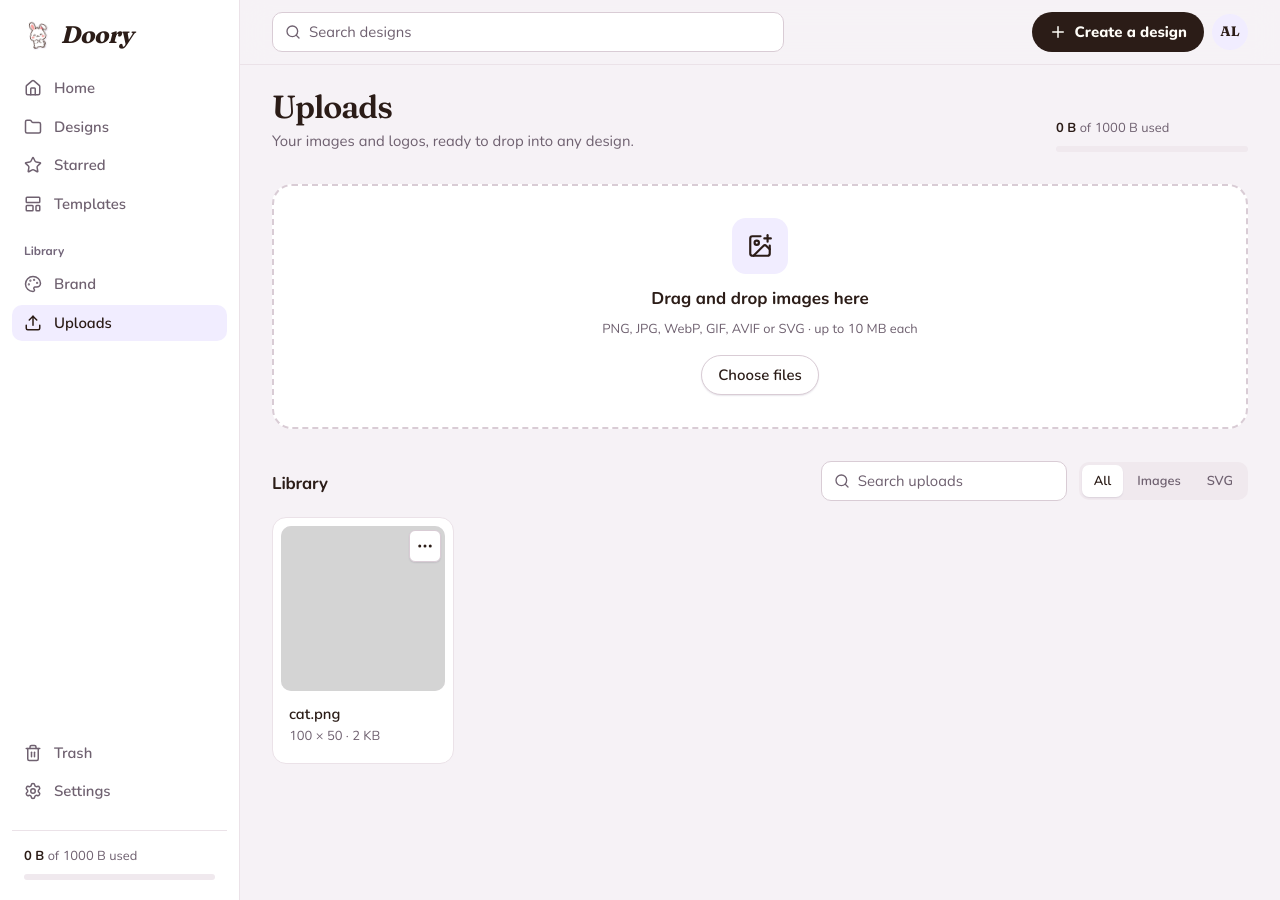
Test: uploads page › warns that designs lose a deleted image, then deletes it
Click the button named "More actions for cat.png" at point(425, 546), box [409, 530, 441, 562]
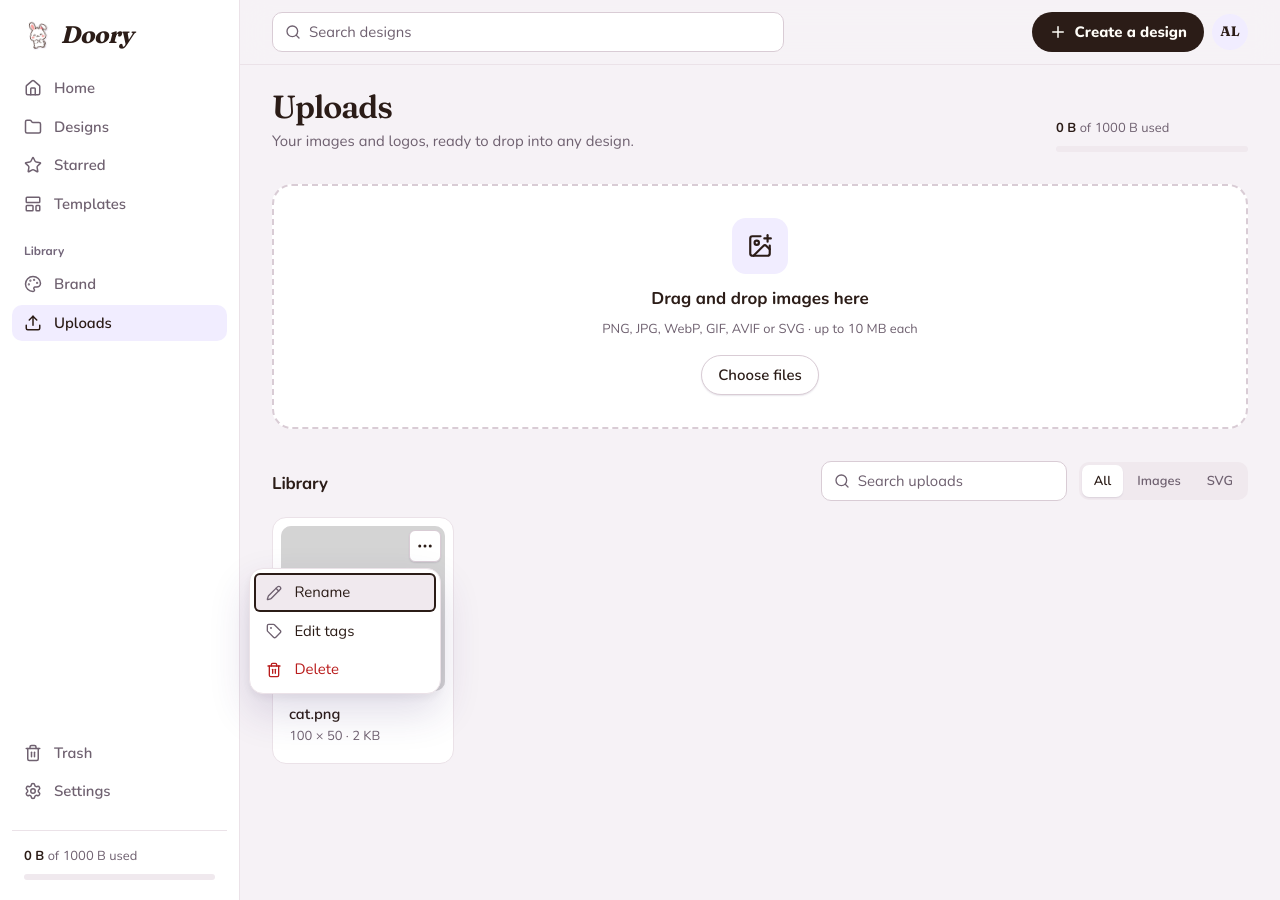
Click the menu item "Delete" at point(345, 670), box [254, 650, 436, 689]
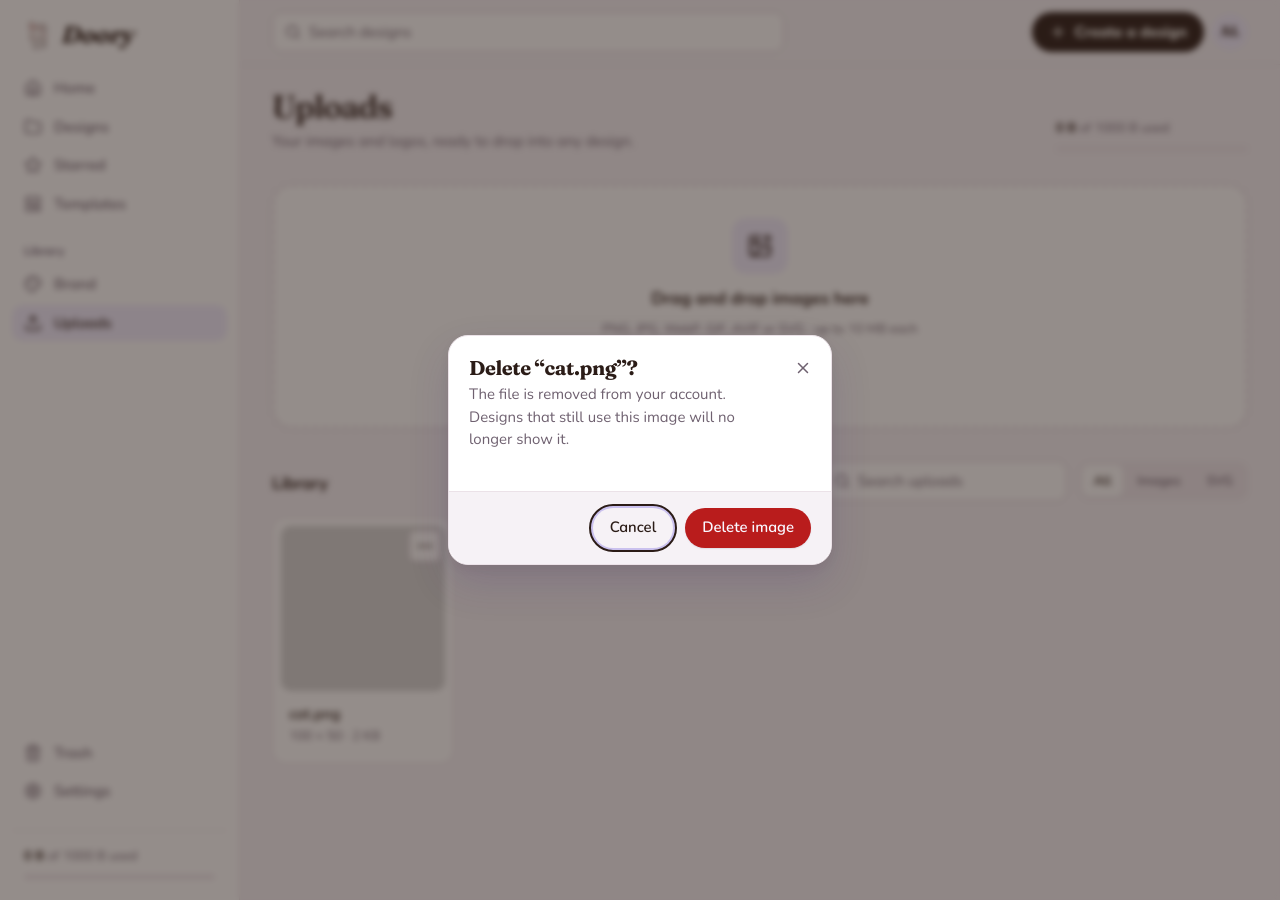
Check: the text "will no longer show it" is shown, box [469, 384, 735, 449]
Click the button "Delete image" at point(748, 528), box [685, 508, 811, 548]
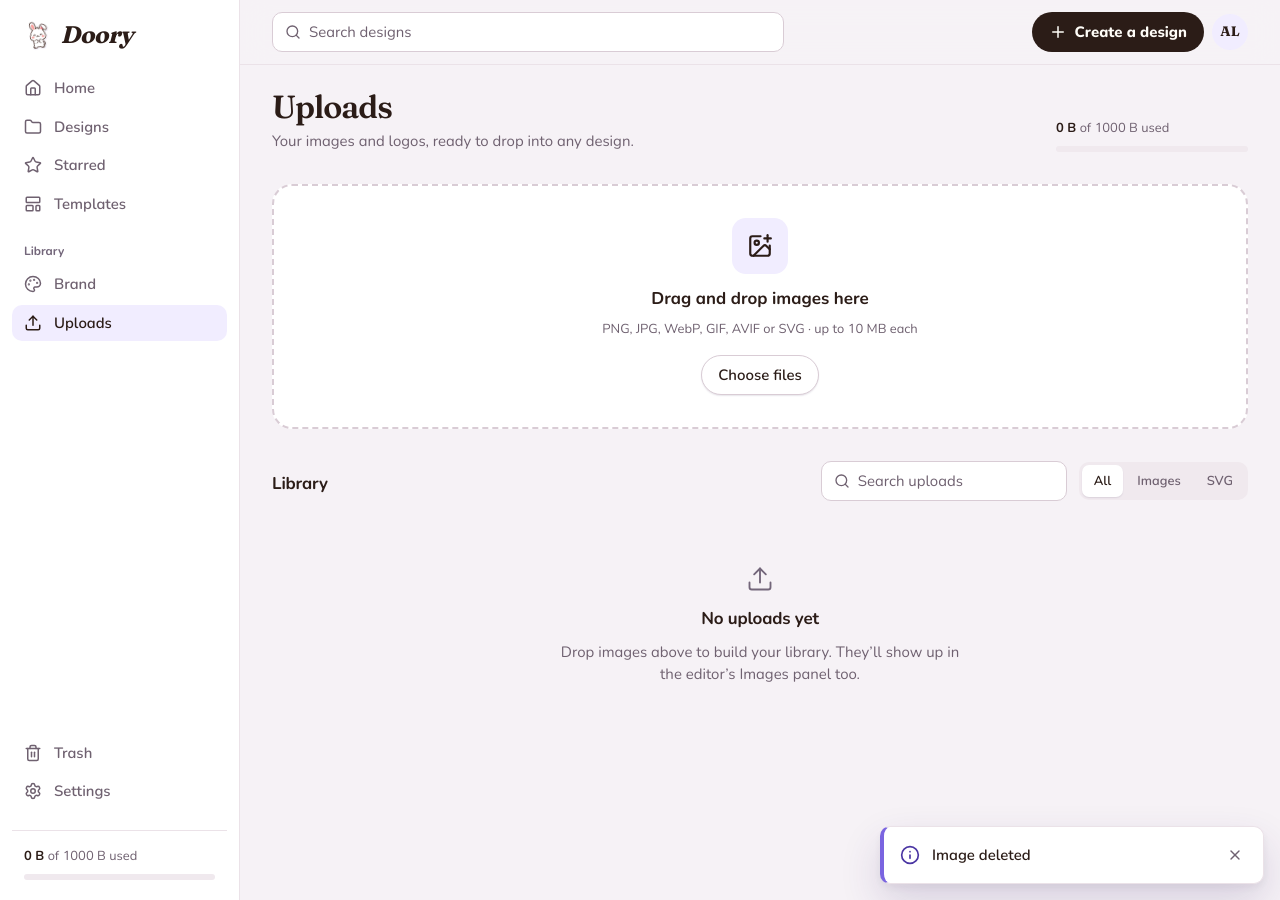
Check: the text "cat.png" is gone
